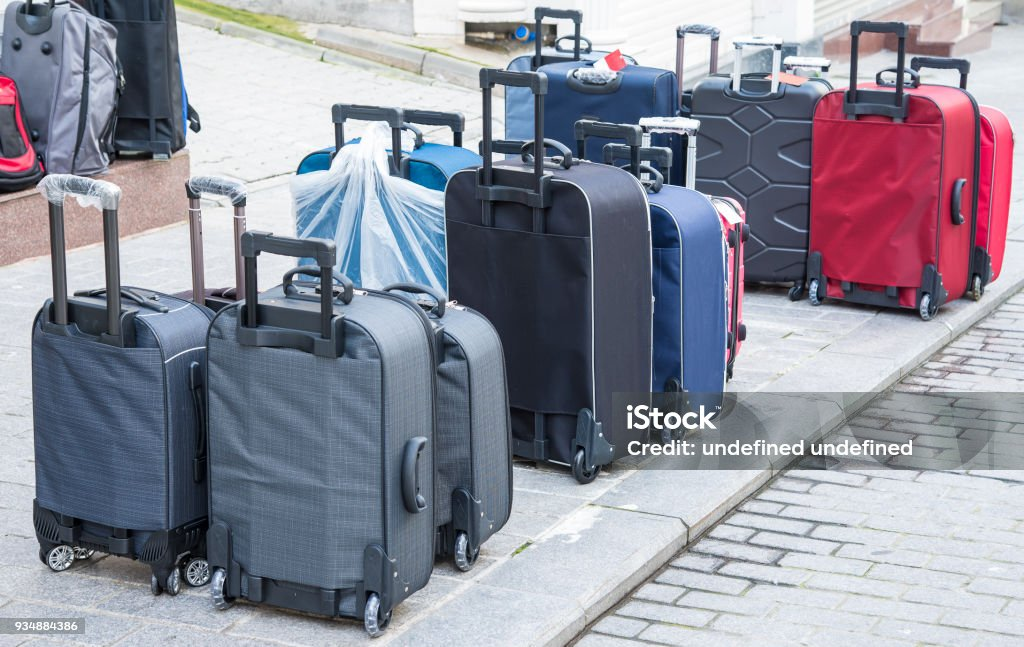Bag: (198, 228, 438, 636), (449, 66, 656, 490), (30, 170, 209, 594), (810, 10, 978, 315), (393, 285, 520, 568), (695, 36, 825, 297), (645, 177, 732, 447), (297, 144, 446, 287), (500, 4, 637, 139), (533, 64, 678, 134), (976, 99, 1018, 296), (714, 193, 751, 381)
Handle: (41, 174, 131, 339), (475, 64, 547, 237), (238, 229, 340, 332), (182, 173, 254, 306), (844, 16, 913, 108), (329, 101, 405, 181), (637, 106, 702, 191), (572, 117, 642, 179), (672, 21, 722, 105), (730, 34, 789, 92), (528, 6, 585, 63), (603, 142, 678, 183), (397, 106, 468, 148), (911, 54, 973, 88), (785, 55, 833, 80)
